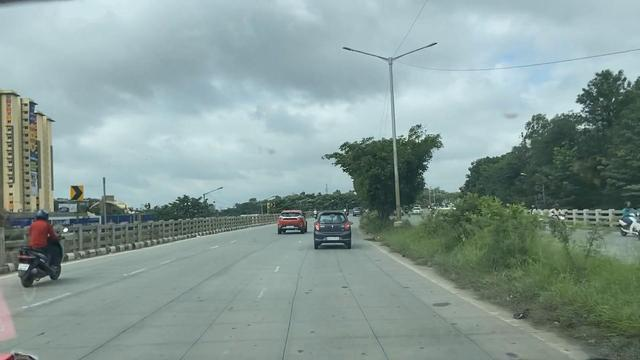LMV: (24, 219, 65, 285), (313, 209, 349, 245), (276, 207, 305, 231)
